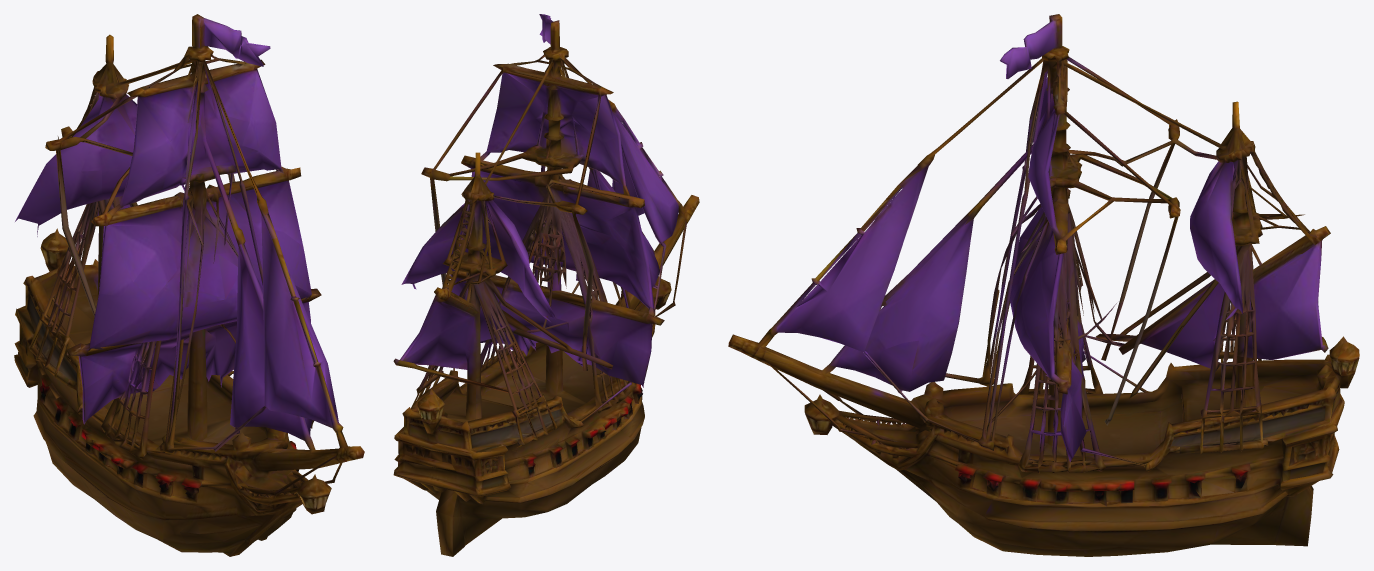
The model's file is enemy_boss.glb.
3 renders of one model, left to right at view 1: azimuth 30°, elevation 25°; view 2: azimuth 150°, elevation 25°; view 3: azimuth 270°, elevation 25°, orthographic. The views are drawn at different scales.
Parts seen in each view (by area): view 1: ship; view 2: ship; view 3: ship.
Part boxes in pixels (x1,y1,x2,y2): ship: (14, 14, 364, 556); ship: (393, 14, 699, 556); ship: (728, 14, 1359, 556).
Size of the model in its own units: 3.26 by 6.45 by 7.
Materials: 1 (1 with a texture image).
